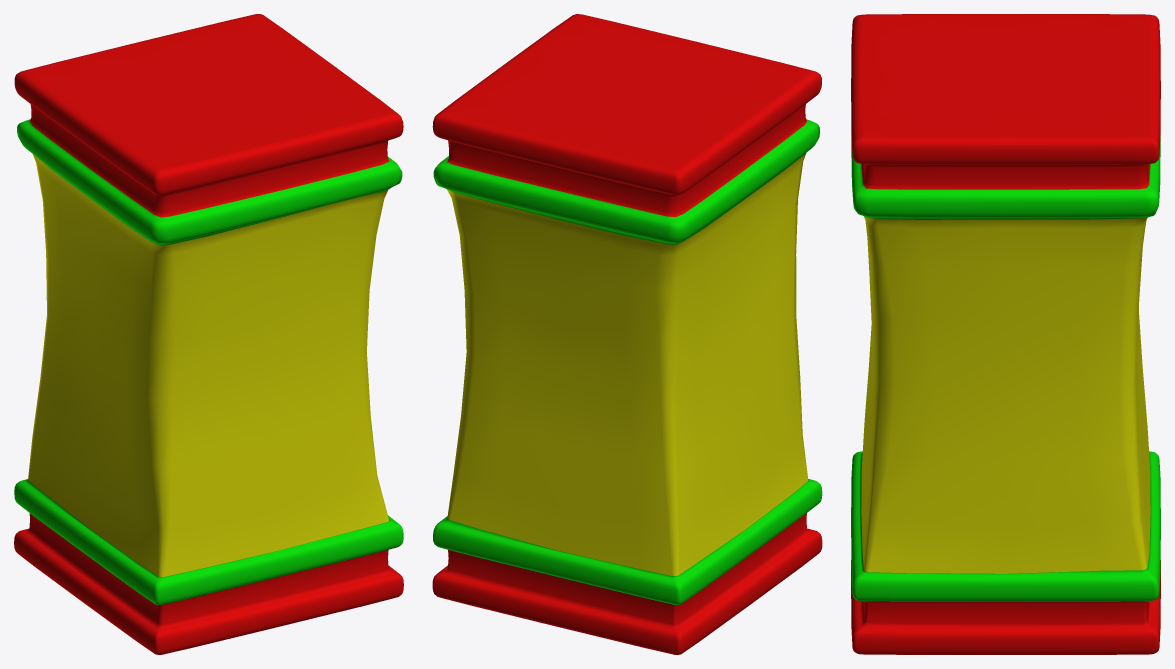
File: Monolith.fbx
3 renders of one model, left to right at view 1: azimuth 30°, elevation 25°; view 2: azimuth 150°, elevation 25°; view 3: azimuth 270°, elevation 25°, orthographic. The views are drawn at different scales.
Visible parts, largest first — view 1: Monolith; view 2: Monolith; view 3: Monolith.
Part boxes in pixels (x1,y1,x2,y2): Monolith: (14, 14, 403, 654); Monolith: (432, 14, 822, 654); Monolith: (851, 14, 1160, 654).
Bounding box in the file's own units: 435 × 798 × 435.
